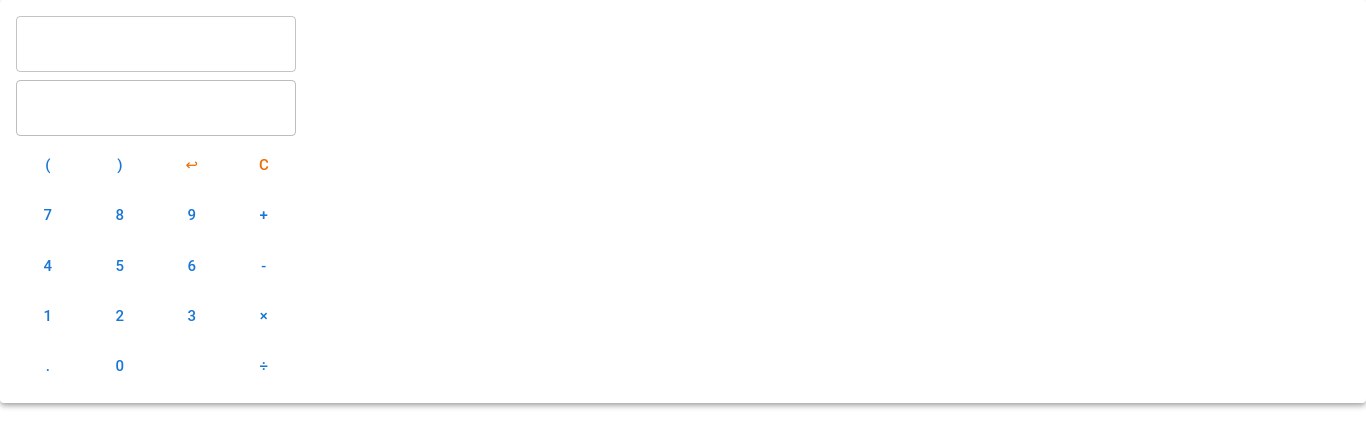
Test: Calculator › shows the result of a × calculation
Click the button "4" at (48, 266), box [16,244,80,287]
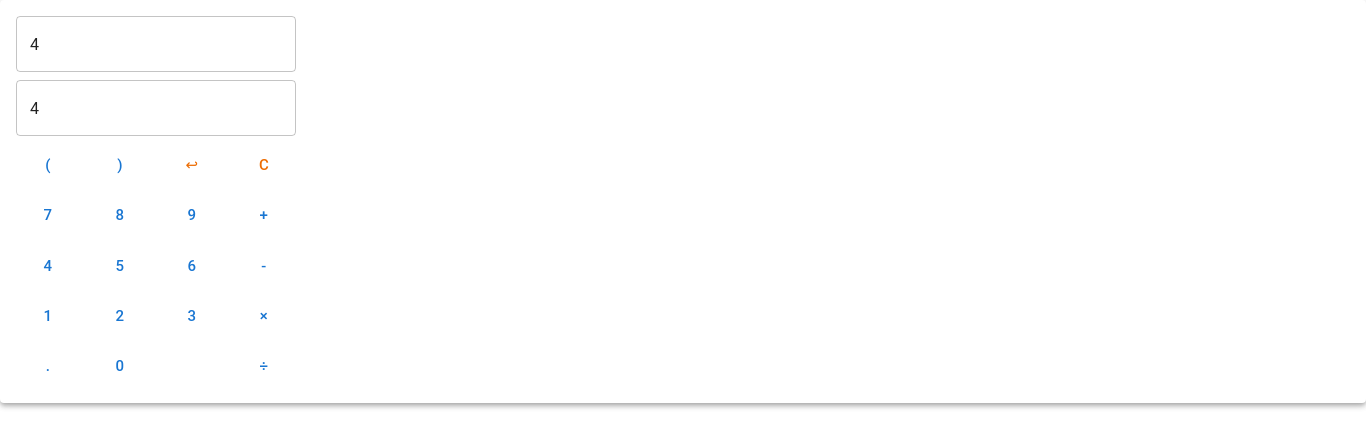
Click the button "×" at (264, 316), box [232,295,296,337]
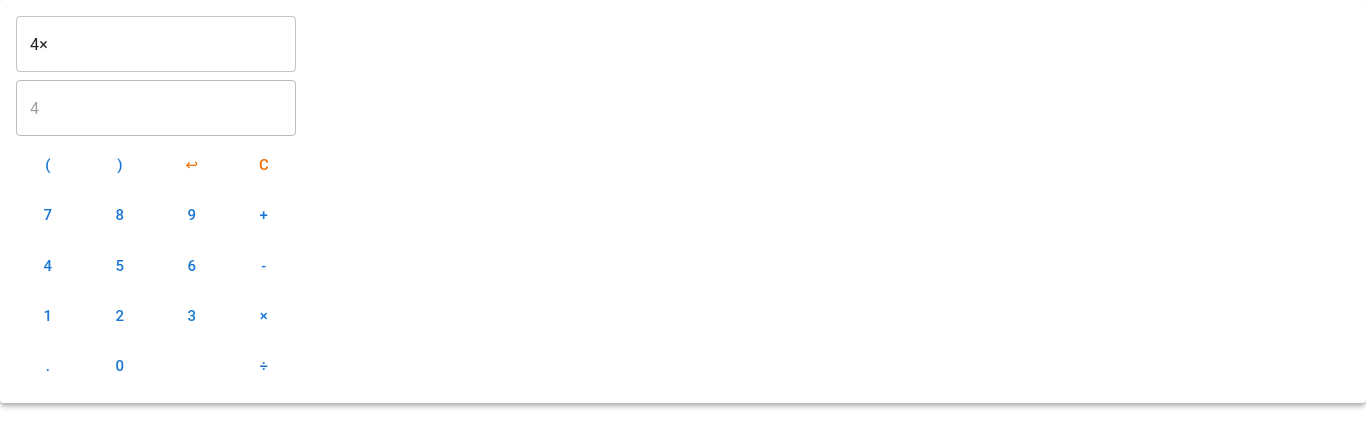
Click the button "8" at (120, 215), box [88,194,152,237]
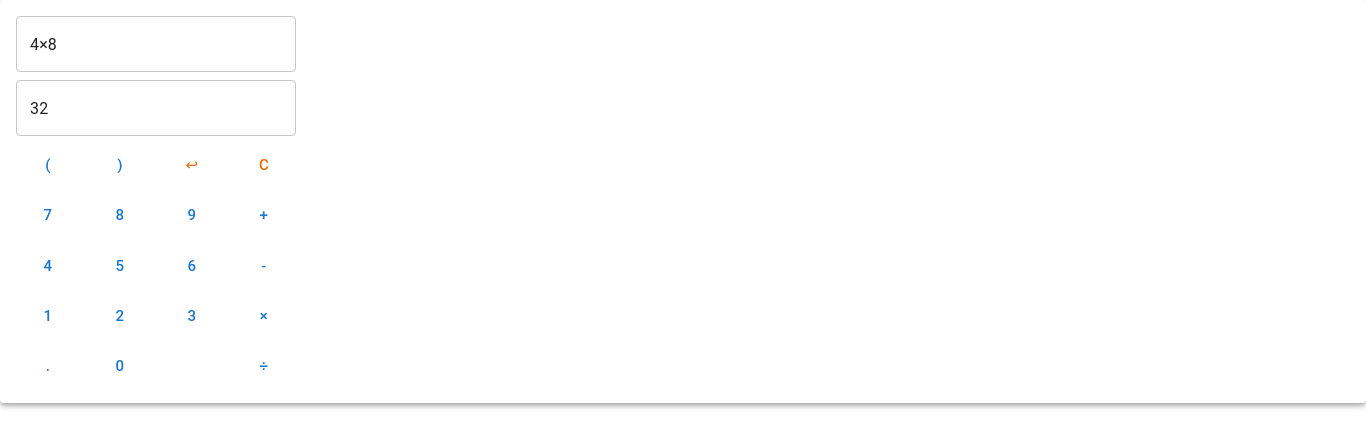
Expected: the field with test id "output" holds "32", [16,80,296,136]
